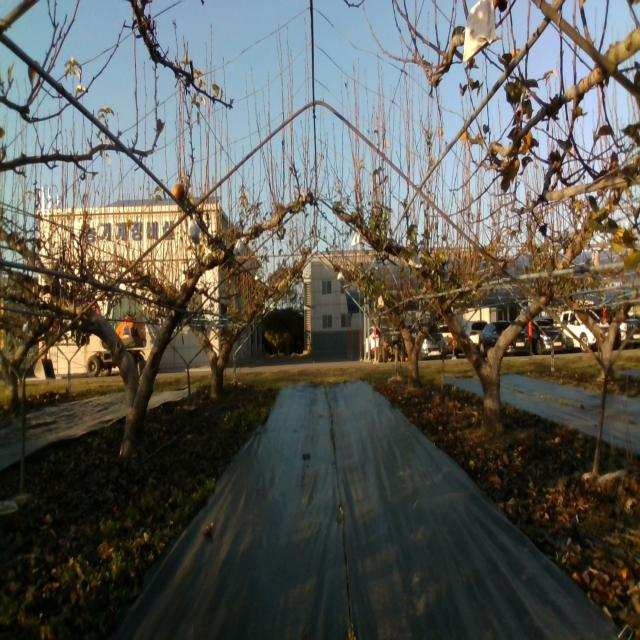pearbags: (461, 0, 495, 63), (188, 214, 200, 246), (408, 250, 422, 269), (232, 236, 245, 256)
